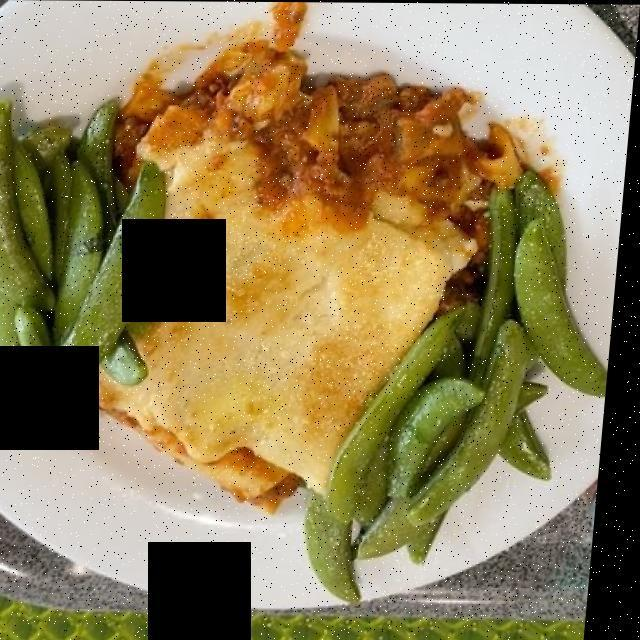lasagne: (79, 35, 532, 522)
